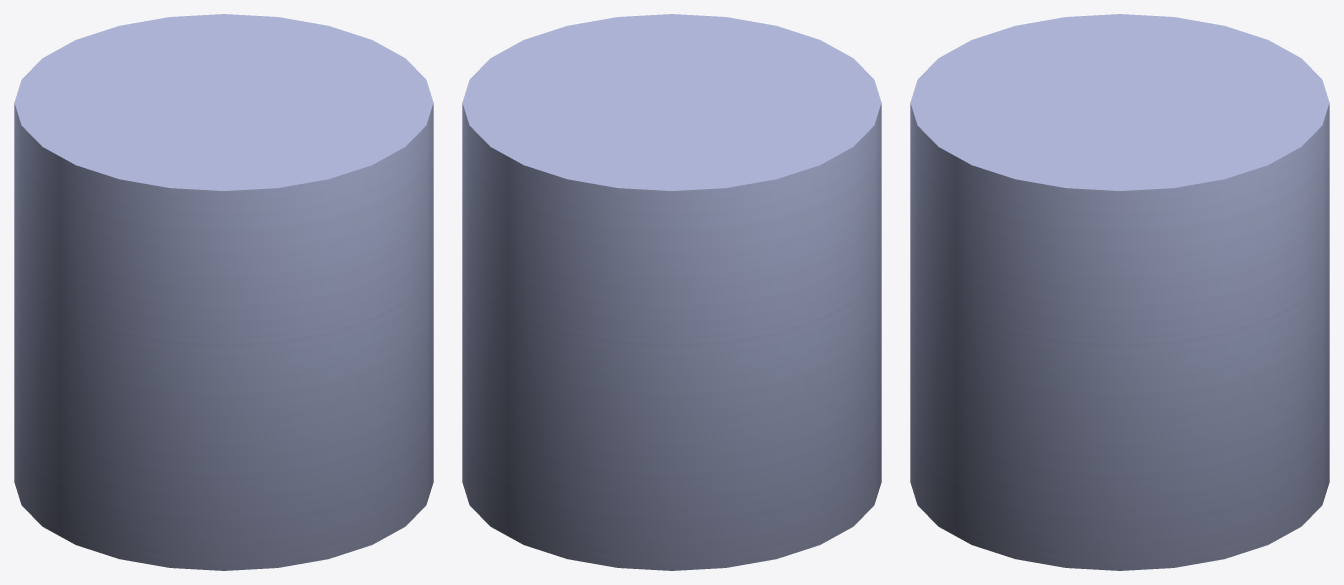
File: shape-cylinder-detailed.fbx
3 views of the same model, side by side, from view 1: azimuth 30°, elevation 25°; view 2: azimuth 150°, elevation 25°; view 3: azimuth 270°, elevation 25° (orthographic).
Visible parts, largest first — view 1: shape-cylinder-detailed; view 2: shape-cylinder-detailed; view 3: shape-cylinder-detailed.
Part boxes in pixels (x1=…): shape-cylinder-detailed: x1=14, y1=14, x2=433, y2=570; shape-cylinder-detailed: x1=462, y1=14, x2=881, y2=570; shape-cylinder-detailed: x1=910, y1=14, x2=1329, y2=570.
Bounding box in the file's own units: 100 × 100 × 100.
